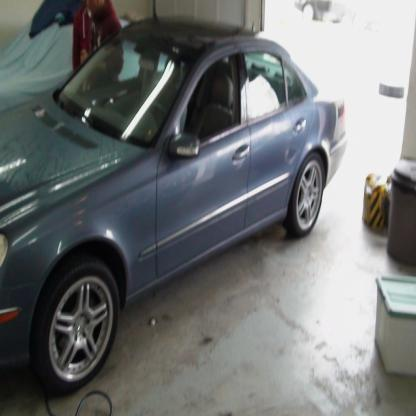Car: (1, 17, 349, 392), (295, 1, 385, 32)
